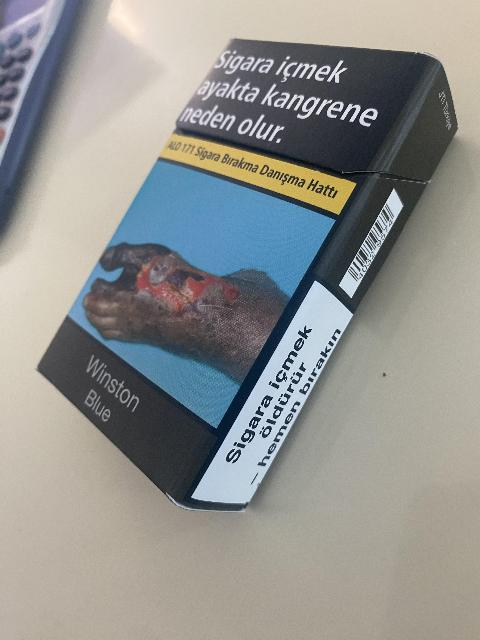Kagit: (35, 34, 460, 519)
